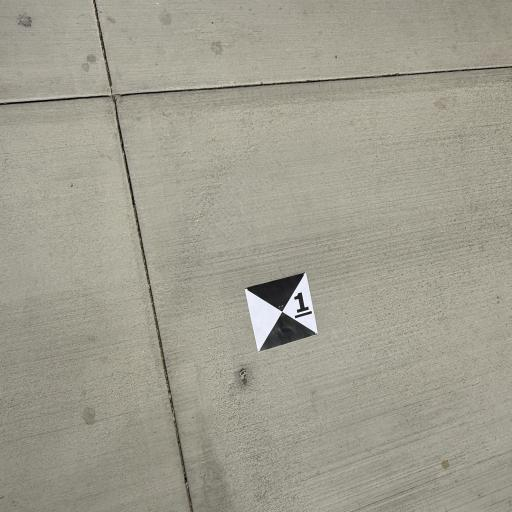target1: (242, 271, 324, 353)
